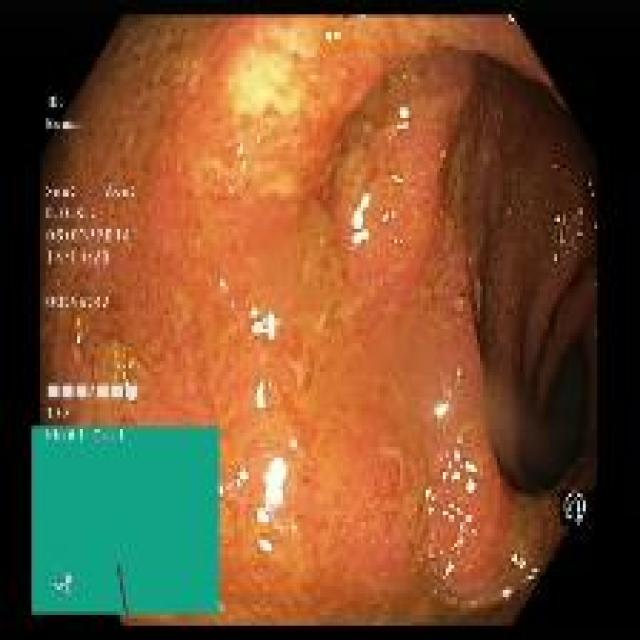ulcerative-colitis: (84, 29, 445, 426)
